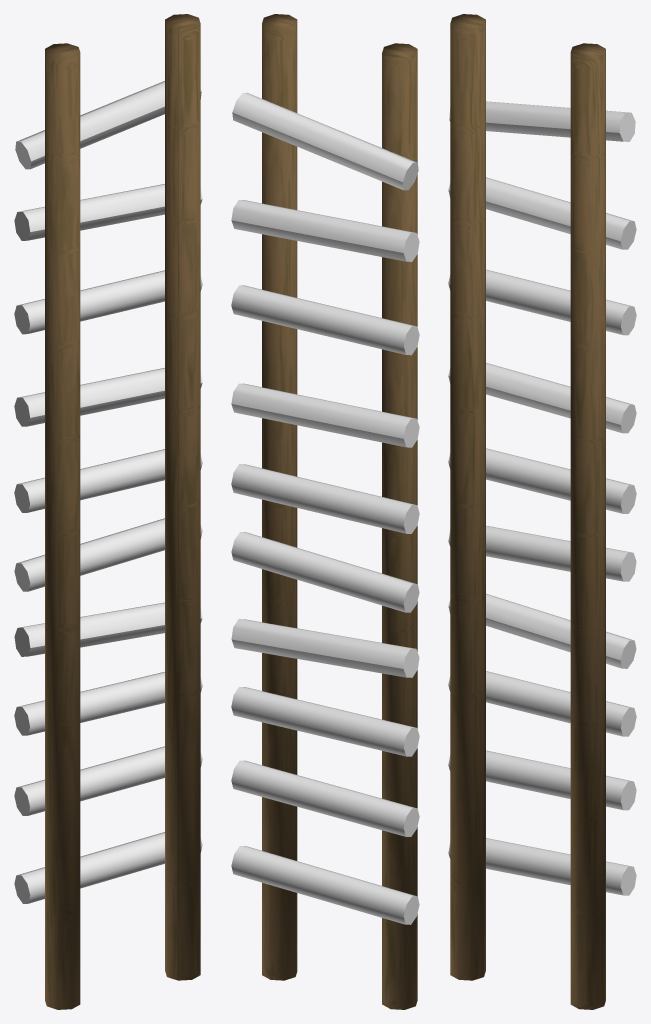
File: ladder.fbx
3 views of the same model, side by side, from view 1: azimuth 30°, elevation 25°; view 2: azimuth 150°, elevation 25°; view 3: azimuth 330°, elevation 25° (orthographic).
Parts seen in each view (by area): view 1: Cube.001, 円柱.009; view 2: 円柱.009, Cube.001; view 3: Cube.001, 円柱.009.
Boxes of the visible parts, <box> form: Cube.001: <box>45,14,200,1009</box>; 円柱.009: <box>14,81,202,903</box>; 円柱.009: <box>231,92,419,924</box>; Cube.001: <box>262,14,417,1009</box>; Cube.001: <box>450,14,605,1009</box>; 円柱.009: <box>448,101,636,895</box>.
Bounding box in the file's own units: 87.24 × 454 × 27.2.
Materials: 2 (1 with a texture image).
